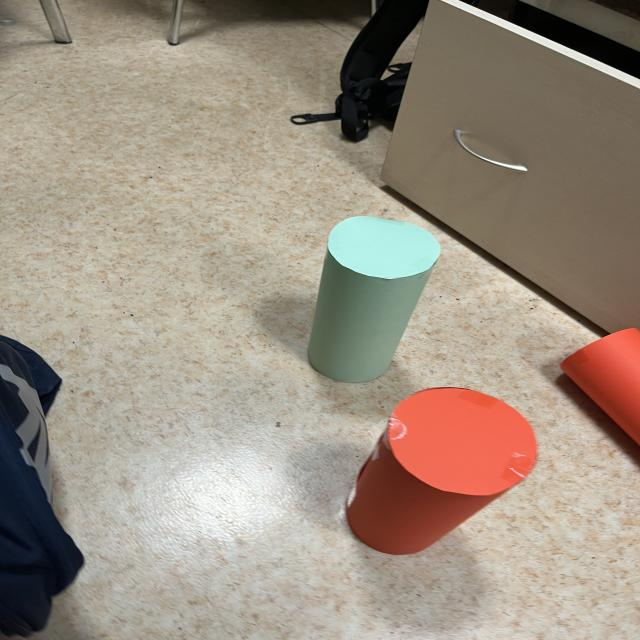meta: (308, 217, 440, 383)
przeszkoda: (346, 387, 537, 554), (561, 328, 640, 445)
